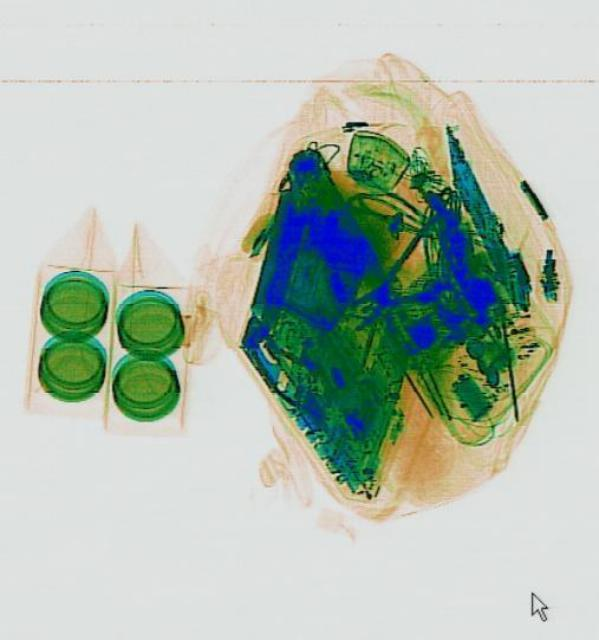Pliers: (328, 211, 481, 347)
